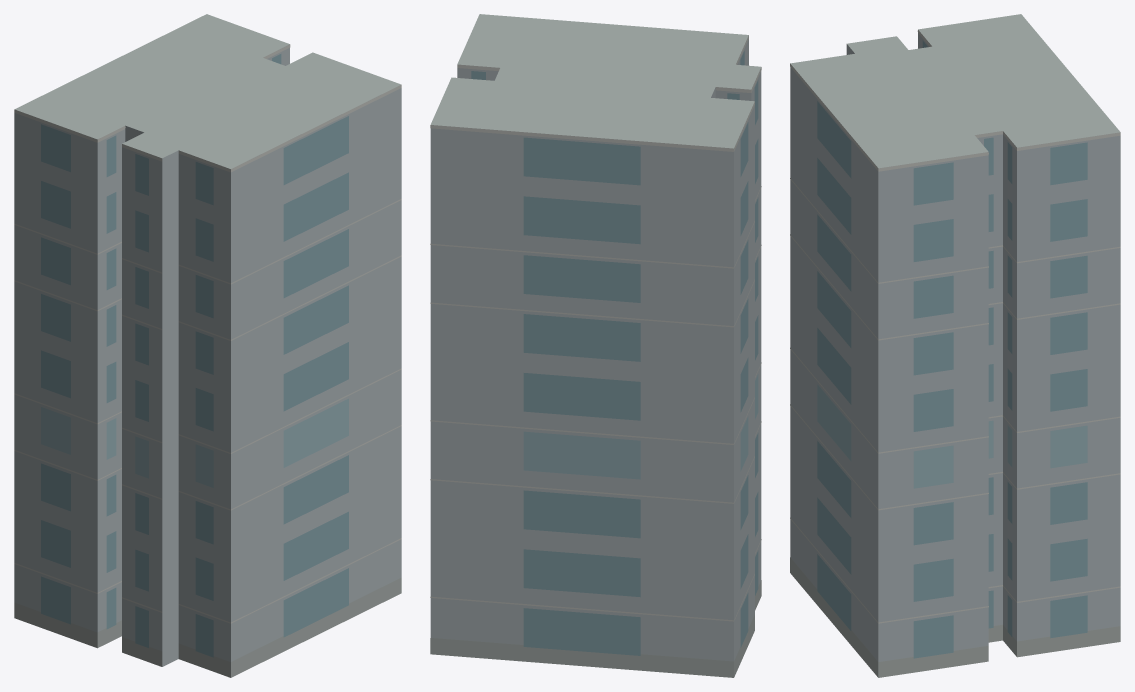
The model's file is survey-upis-32548383.glb.
3 renders of one model, left to right at view 1: azimuth 30°, elevation 25°; view 2: azimuth 150°, elevation 25°; view 3: azimuth 270°, elevation 25°, orthographic. The views are drawn at different scales.
Parts seen in each view (by area): view 1: survey-upis-32548383.tmp; view 2: survey-upis-32548383.tmp; view 3: survey-upis-32548383.tmp.
Part boxes in pixels (bbox=[...]): survey-upis-32548383.tmp: bbox=[14, 14, 401, 677]; survey-upis-32548383.tmp: bbox=[430, 14, 761, 677]; survey-upis-32548383.tmp: bbox=[790, 14, 1120, 677].
Size of the model in its own units: 24.06 by 37 by 21.78.
